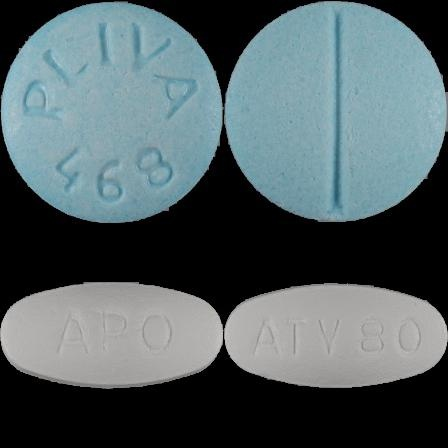61786-883: (0, 0, 224, 224)
